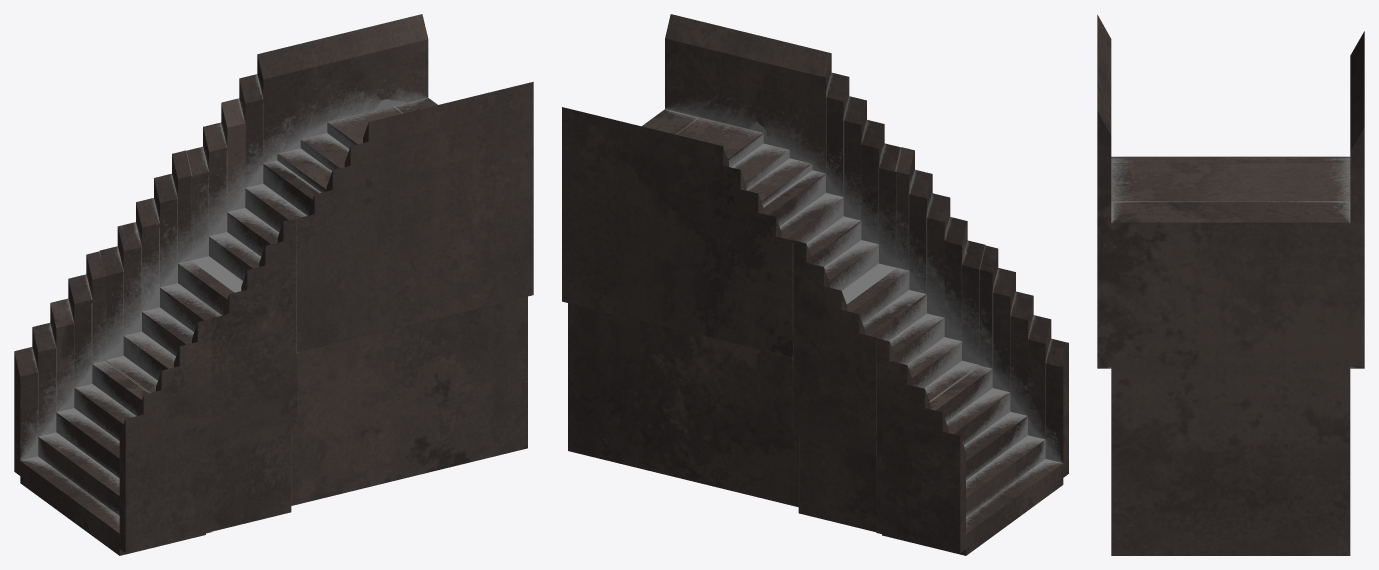
Rendered from Stairs.fbx.
The picture shows the model from 3 angles, left to right: view 1: azimuth 30°, elevation 25°; view 2: azimuth 150°, elevation 25°; view 3: azimuth 270°, elevation 25°; orthographic projection. The views are drawn at different scales.
Parts seen in each view (by area): view 1: Stairs; view 2: Stairs; view 3: Stairs.
Boxes of the visible parts, x1,y1,x2,y2 form: Stairs: [14, 14, 533, 555]; Stairs: [562, 14, 1068, 555]; Stairs: [1097, 14, 1364, 555].
Size of the model in its own units: 3419 by 3033 by 1615.
1 material, 1 textured.
